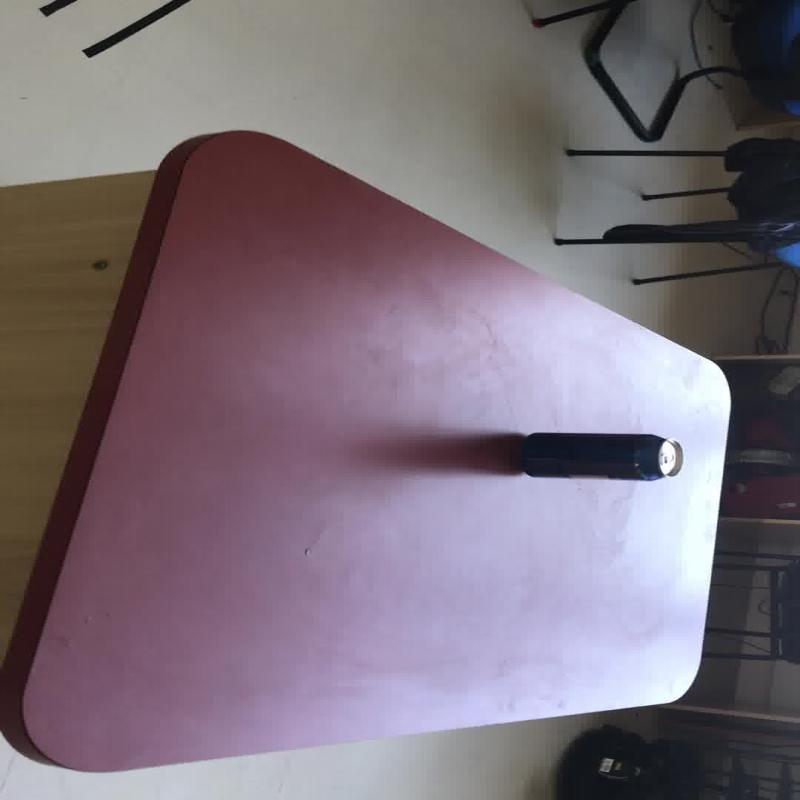tonic: (3, 128, 735, 772), (517, 430, 683, 481)
